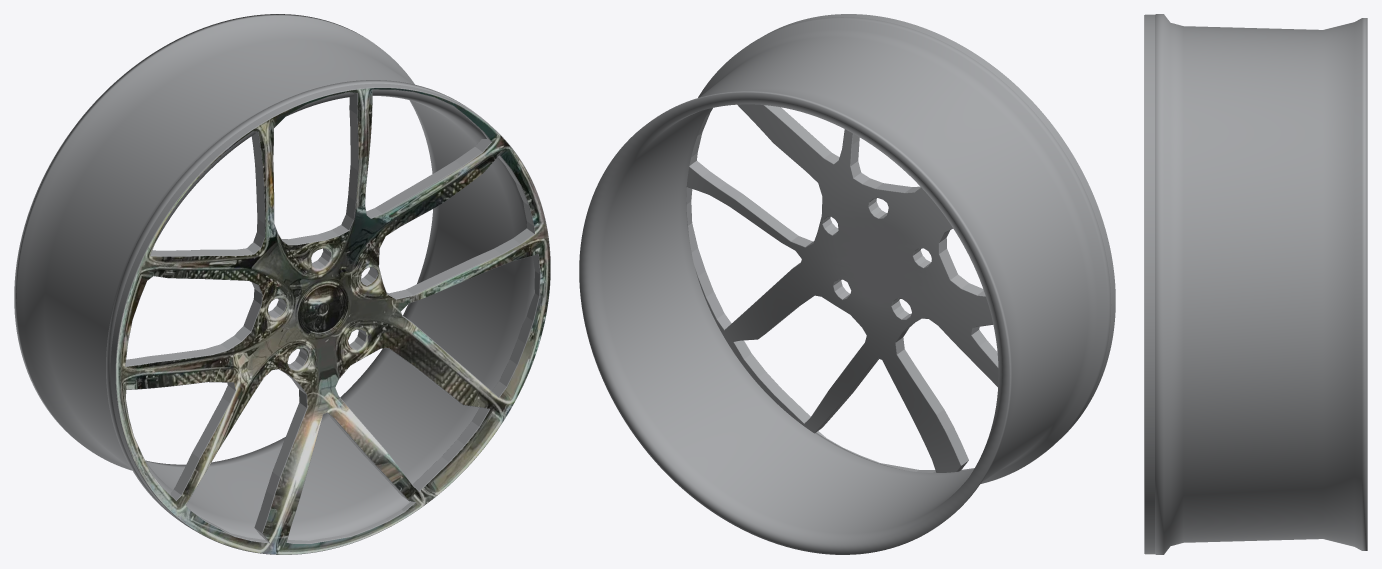
The model's file is bmw-m2-competition-chrome.glb.
The picture shows the model from 3 angles, left to right: view 1: azimuth 30°, elevation 25°; view 2: azimuth 150°, elevation 25°; view 3: azimuth 270°, elevation 25°; orthographic projection. The views are drawn at different scales.
Parts seen in each view (by area): view 1: Approximate_rear_barrel, Photo_traced_face_0; view 2: Approximate_rear_barrel, Photo_traced_face_0; view 3: Approximate_rear_barrel, Photo_traced_face_0.
Part boxes in pixels (x1,y1,x2,y2): Approximate_rear_barrel: (14,14,534,540); Photo_traced_face_0: (110,83,550,554); Approximate_rear_barrel: (579,17,1111,554); Photo_traced_face_0: (686,14,1115,472); Approximate_rear_barrel: (1155,14,1367,554); Photo_traced_face_0: (1144,14,1154,554).
Size of the model in its own units: 2.06 by 2.06 by 0.8526.
Materials: 2 (1 with a texture image).
